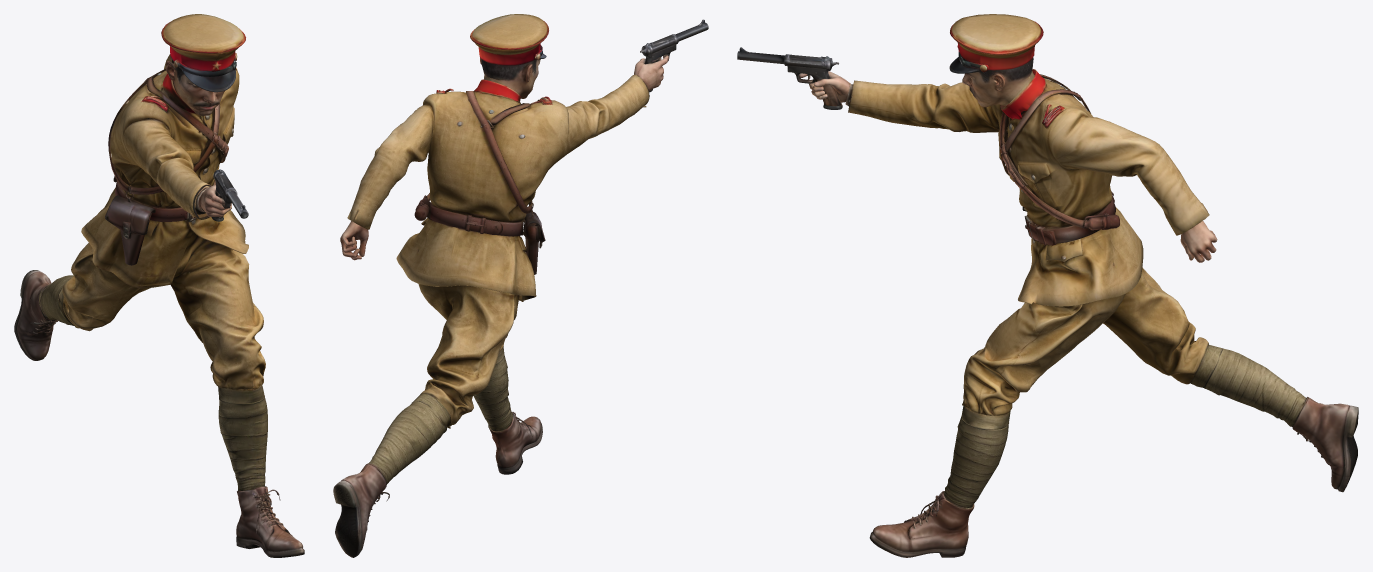
File: soldier_3-9f9c86a889.glb
The picture shows the model from 3 angles, left to right: view 1: azimuth 30°, elevation 25°; view 2: azimuth 150°, elevation 25°; view 3: azimuth 270°, elevation 25°; orthographic projection. The views are drawn at different scales.
Parts seen in each view (by area): view 1: tripo_node_607a3ce6-bf63-43fe-be26-8f722f558f59; view 2: tripo_node_607a3ce6-bf63-43fe-be26-8f722f558f59; view 3: tripo_node_607a3ce6-bf63-43fe-be26-8f722f558f59.
Boxes of the visible parts, x1,y1,x2,y2 form: tripo_node_607a3ce6-bf63-43fe-be26-8f722f558f59: [14, 14, 304, 557]; tripo_node_607a3ce6-bf63-43fe-be26-8f722f558f59: [333, 14, 708, 557]; tripo_node_607a3ce6-bf63-43fe-be26-8f722f558f59: [737, 14, 1358, 557].
Size of the model in its own units: 0.3296 by 0.9146 by 0.9995.
Materials: 1 (1 with a texture image).
